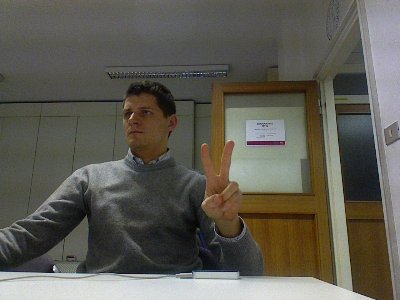剪刀: (199, 138, 240, 222)
